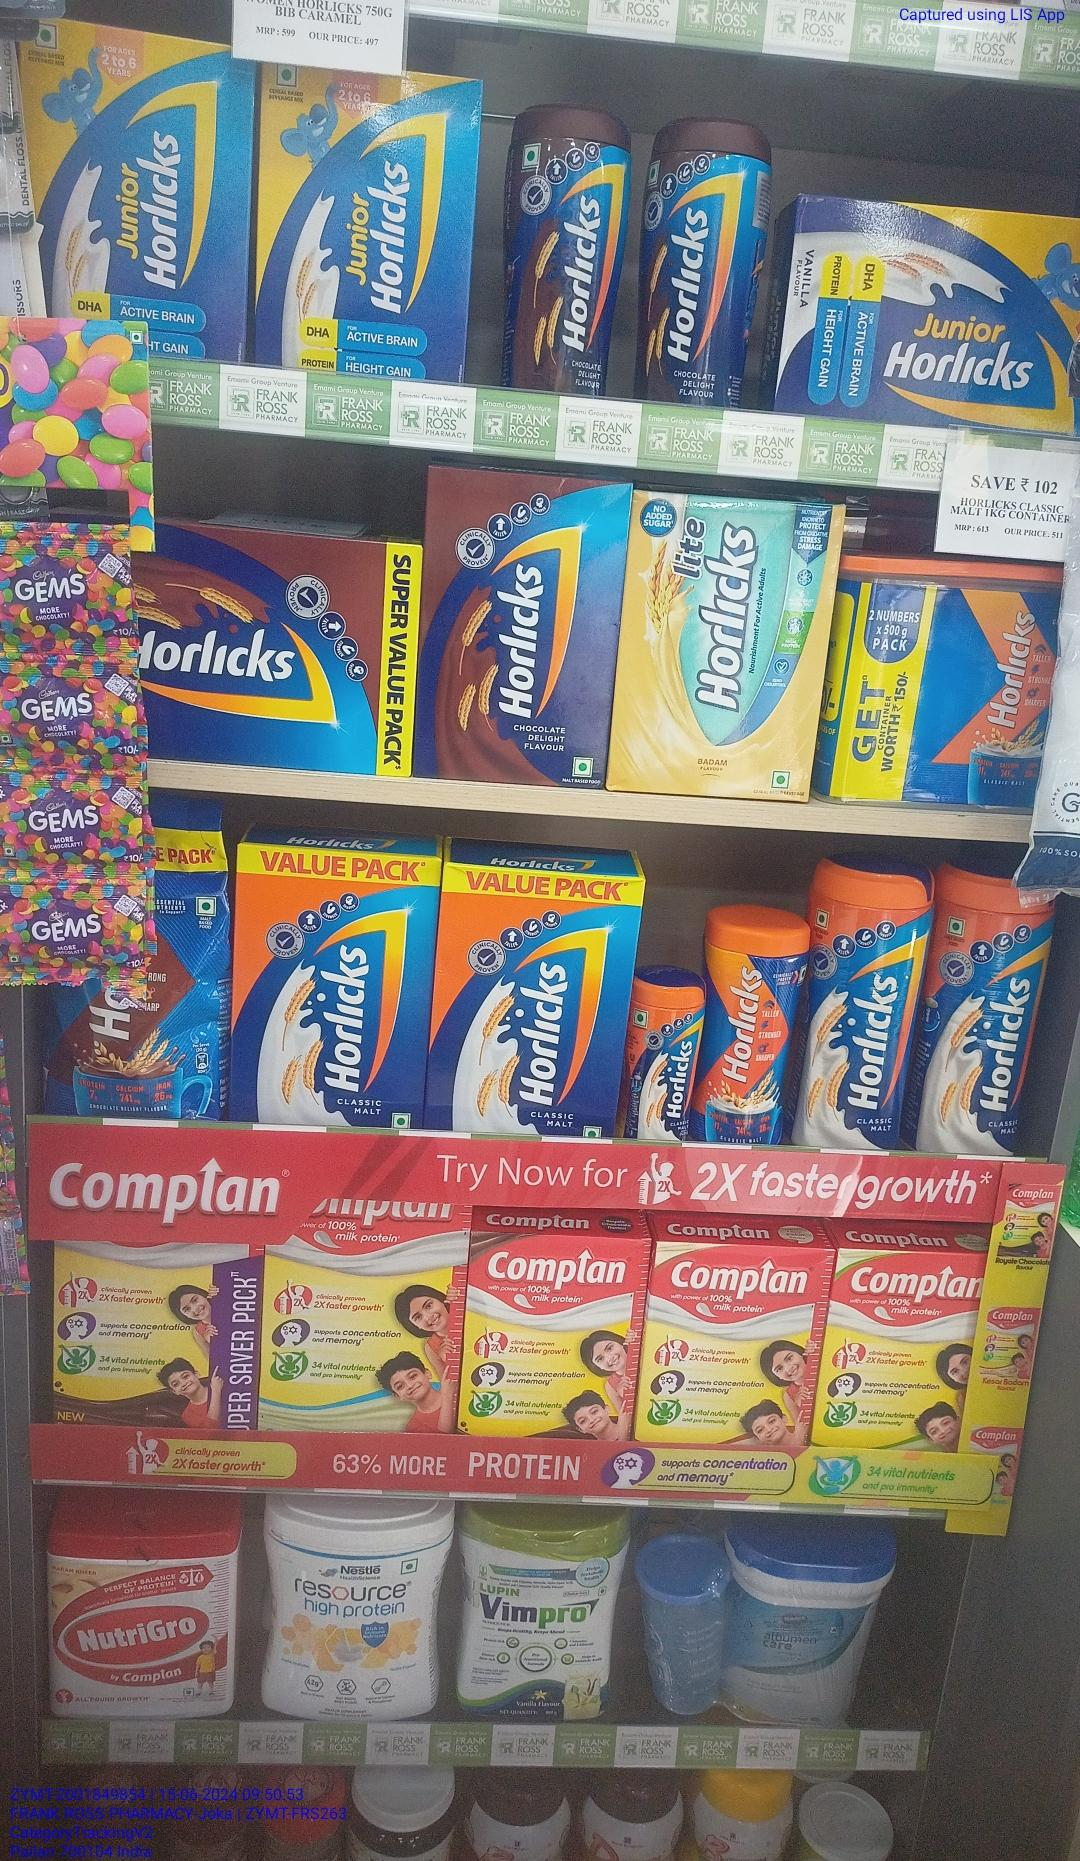COMPLAN_CHOCOLATE_200_GMS_PACK: (460, 1234, 636, 1437)
COMPLAN_CHOCOLATE_500_GMS_PACK: (54, 1238, 257, 1433)
COMPLAN_CREAMY_CLASSIC_500_G_PACK: (258, 1194, 456, 1433)
COMPLAN_KESAR_BADAM_500_GMS_PACK: (645, 1242, 828, 1447)
COMPLAN_PISTA_BADAM_500_GMS_PACK: (834, 1248, 971, 1454)
HORLICK_CLASSIC_MALT_200_G_JAR: (638, 979, 697, 1143)
HORLICK_CLASSIC_MALT_500_G_JAR: (706, 924, 802, 1149)
HORLICK_MALT_1_KG_CONTAINER: (827, 558, 1049, 808)
